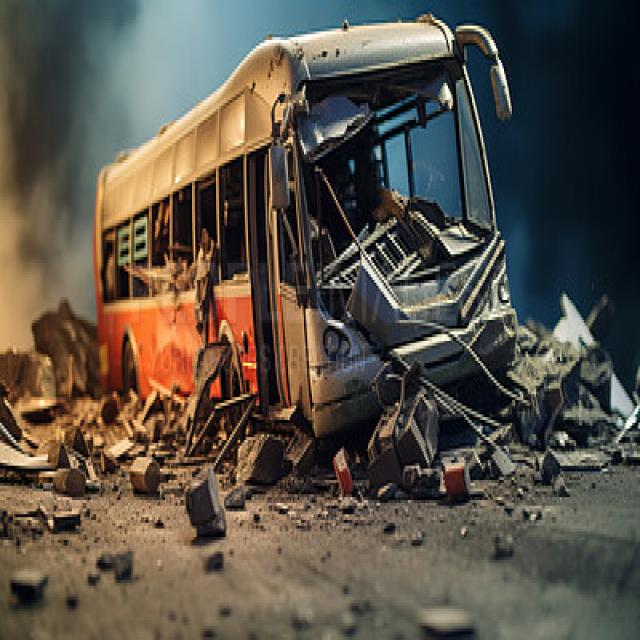Accident: (91, 15, 518, 505)
